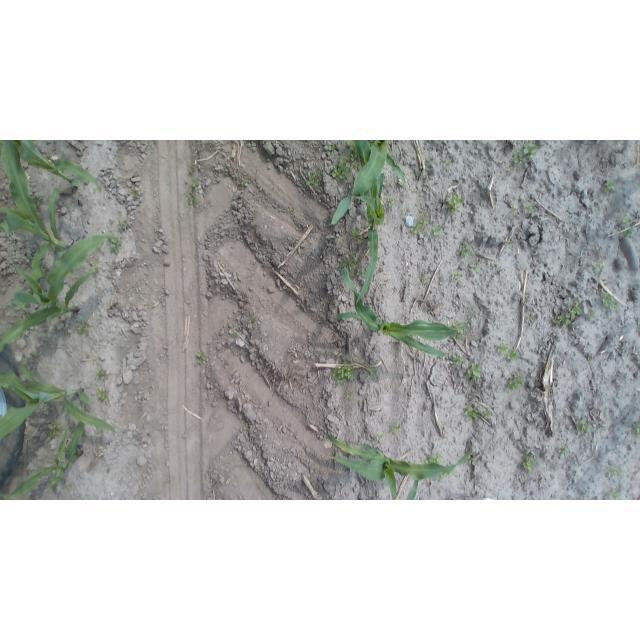Maize: (1, 234, 120, 355), (337, 253, 469, 359), (1, 140, 77, 296), (322, 430, 474, 499), (1, 365, 118, 440), (337, 140, 390, 304), (330, 142, 411, 231), (0, 422, 88, 499), (9, 140, 105, 196)
Weeds: (552, 300, 583, 328), (333, 363, 360, 386), (330, 156, 355, 180), (462, 405, 494, 421), (444, 193, 465, 215), (506, 372, 528, 392), (514, 148, 535, 165), (521, 451, 538, 472), (306, 169, 324, 188), (46, 420, 65, 438), (575, 415, 593, 434), (411, 217, 429, 236), (465, 362, 483, 380), (452, 320, 469, 339), (456, 239, 473, 258), (108, 235, 124, 255), (424, 452, 444, 467), (523, 142, 540, 159), (601, 291, 617, 309), (600, 178, 616, 195), (604, 464, 623, 478), (31, 192, 45, 210), (93, 368, 112, 381), (95, 388, 111, 403), (557, 442, 572, 458), (76, 320, 91, 336), (512, 151, 528, 165), (430, 223, 444, 239), (196, 349, 209, 366), (249, 316, 262, 333), (495, 341, 510, 355), (507, 348, 521, 362), (183, 193, 197, 207), (449, 268, 463, 282), (452, 353, 465, 368), (385, 196, 398, 211), (524, 201, 536, 216), (366, 367, 379, 380), (592, 260, 605, 272), (468, 262, 480, 275), (131, 185, 142, 199), (118, 220, 129, 233), (351, 227, 362, 240), (607, 489, 621, 499), (468, 455, 478, 468), (344, 389, 357, 399), (189, 179, 202, 189), (91, 263, 102, 274), (495, 265, 507, 275), (187, 162, 197, 174), (392, 422, 402, 433), (508, 206, 518, 217), (443, 158, 454, 168), (328, 144, 338, 155), (240, 176, 249, 188), (632, 422, 639, 437), (587, 311, 597, 321), (374, 433, 384, 443), (622, 215, 632, 225), (525, 314, 535, 323), (623, 228, 633, 237), (420, 274, 429, 283), (214, 229, 222, 238), (587, 357, 593, 366)
